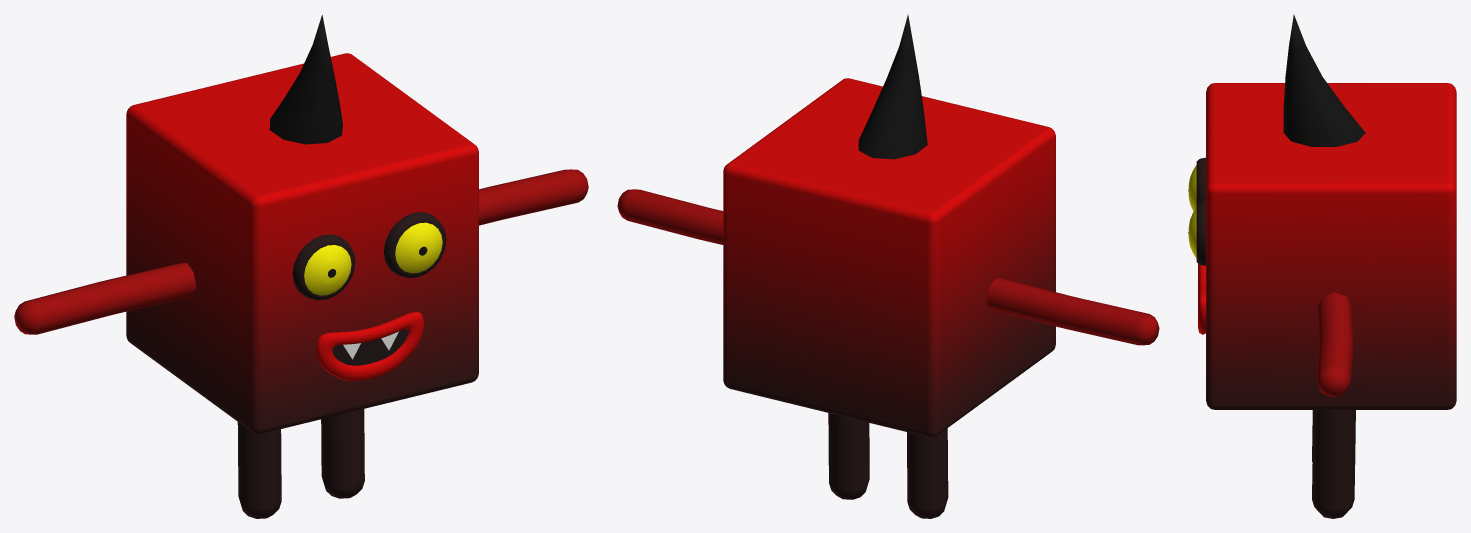
The model's file is mons1.fbx.
3 renders of one model, left to right at view 1: azimuth 30°, elevation 25°; view 2: azimuth 150°, elevation 25°; view 3: azimuth 270°, elevation 25°, orthographic. The views are drawn at different scales.
Parts seen in each view (by area): view 1: mons1; view 2: mons1; view 3: mons1.
Boxes of the visible parts, x1,y1,x2,y2 form: mons1: (14,15,588,518); mons1: (617,14,1159,518); mons1: (1188,14,1456,518).
Size of the model in its own units: 249 by 213 by 107.
1 material, 1 textured.
